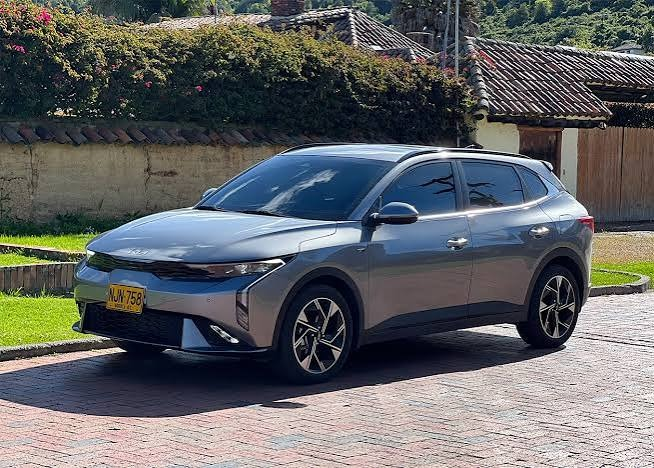car: (53, 137, 593, 378), (62, 141, 588, 382)
